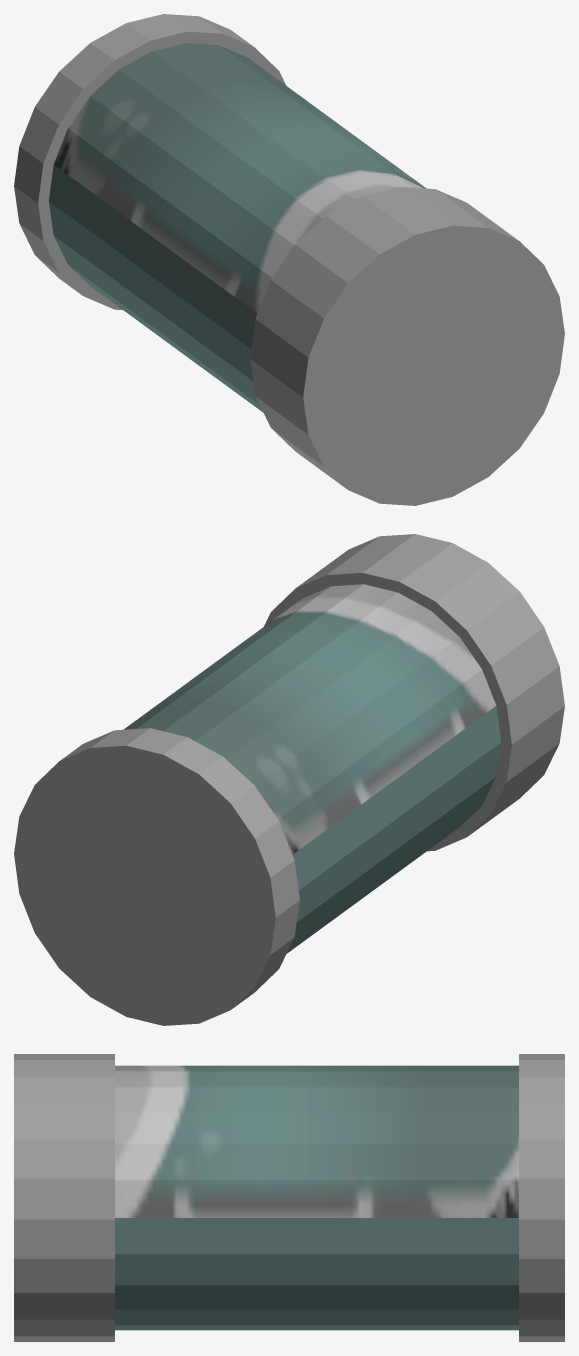
The model's file is Building_GrowthVat.obj.
3 views of the same model, one above another, from view 1: azimuth 30°, elevation 25°; view 2: azimuth 150°, elevation 25°; view 3: azimuth 270°, elevation 25° (orthographic). The views are drawn at different scales.
Parts seen in each view (by area): view 1: Body; view 2: Body; view 3: Body.
Part boxes in pixels (x1,y1,x2,y2): Body: (14,14,564,505); Body: (14,534,564,1025); Body: (14,1054,564,1341).
Size of the model in its own units: 0.98 by 0.97 by 1.88.
Materials: 1 (1 with a texture image).
